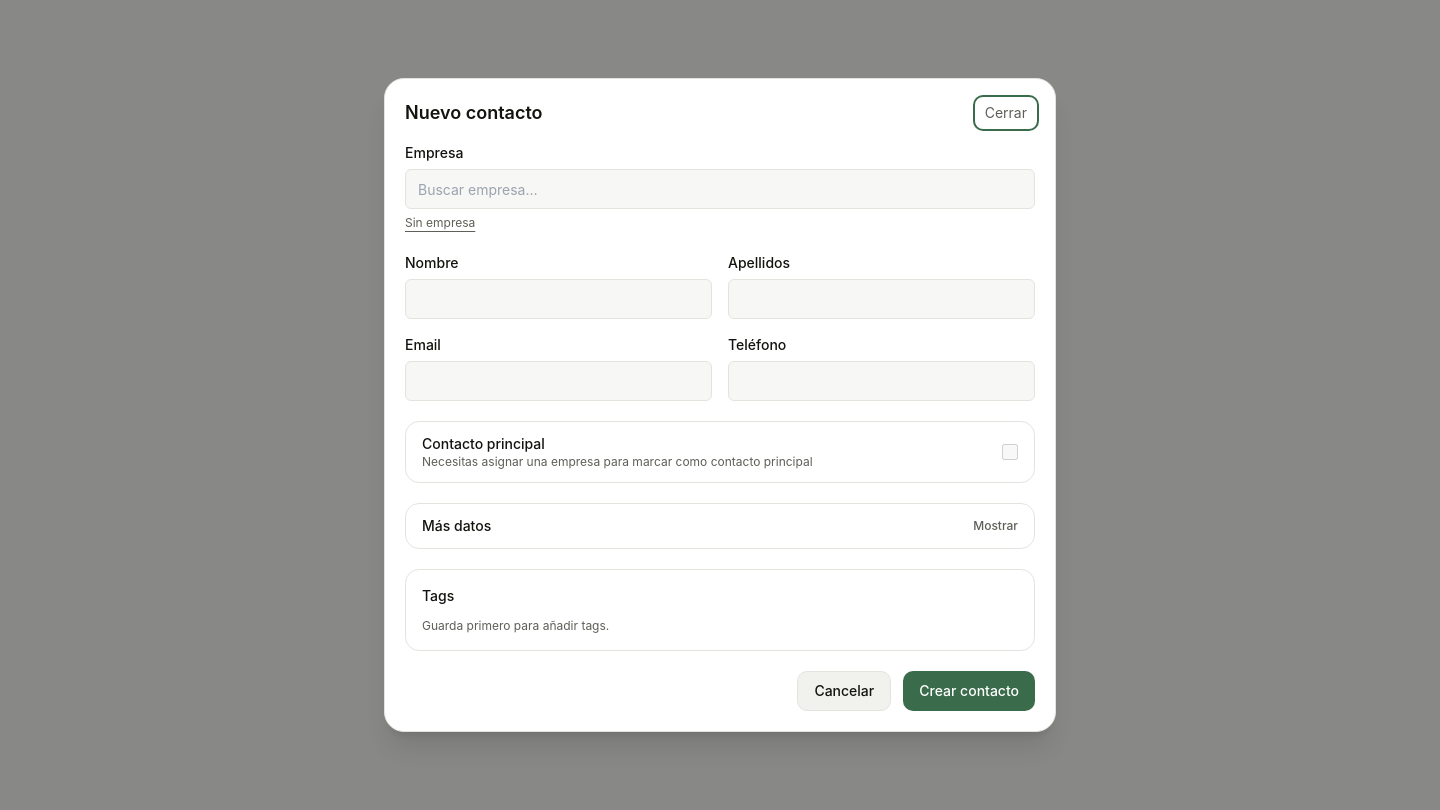
Test: ContactFormDialog › validación: submit sin first_name muestra error
Click the button "Crear contacto": click(969, 691) [903,671,1035,711]
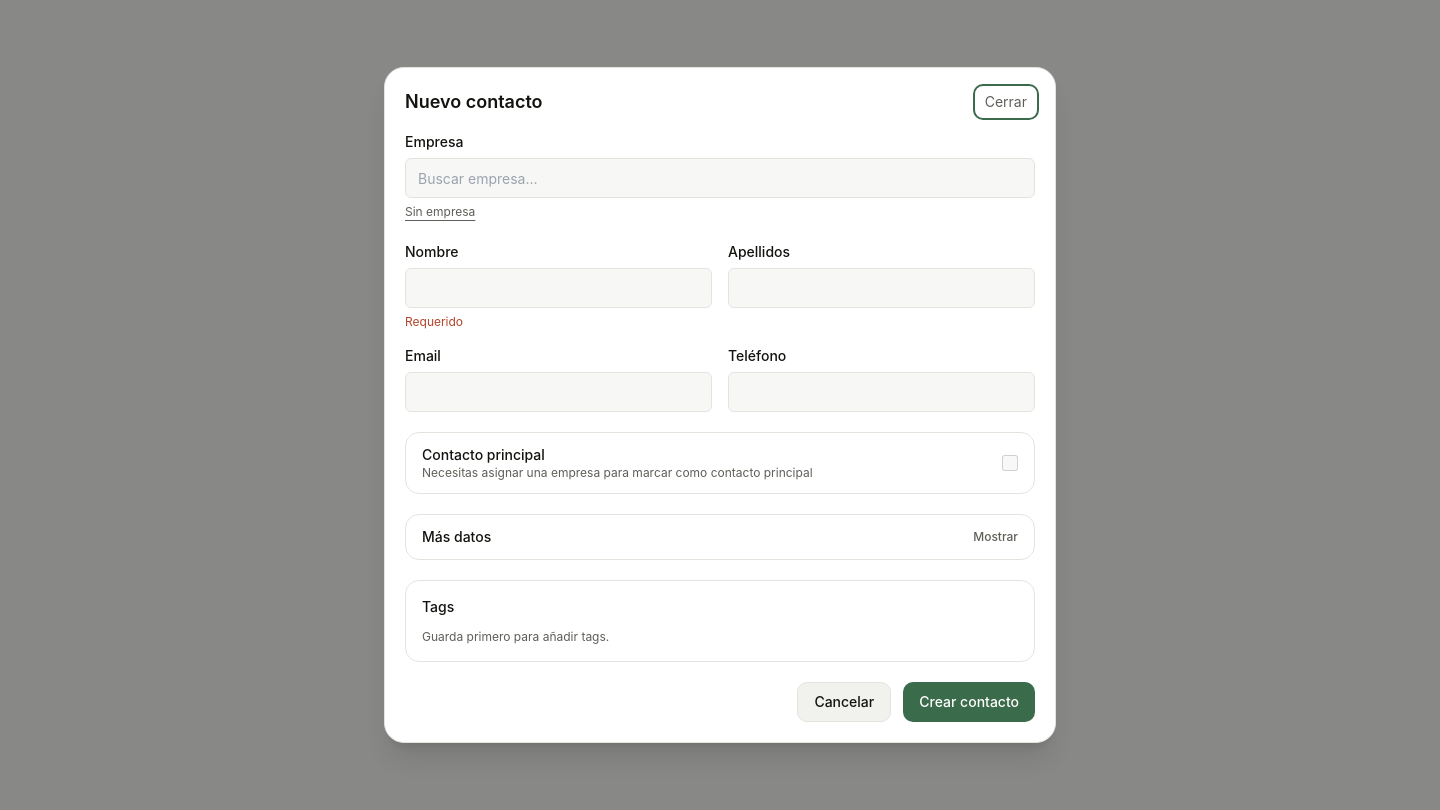
Result: the text "Requerido" is shown at [405,314,463,329]
